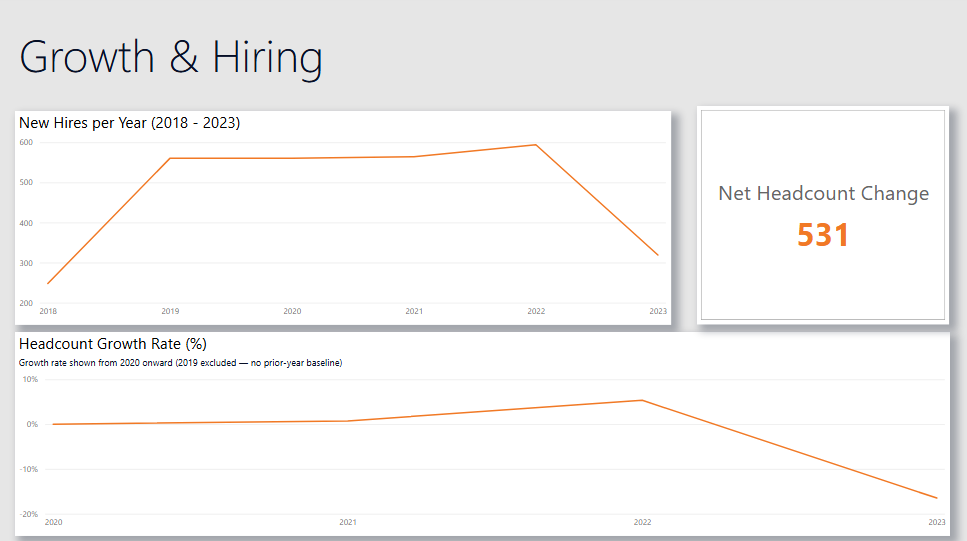

This screenshot's page, from the dashboard's own definition file:
{"tool":"powerbi","page":{"name":"Growth & Hiring","canvas":[1280,720],"ordinal":2},"visuals":[{"type":"lineChart","title":"New Hires per Year (2018 - 2023)","fields":{"Category":["Table6.YEAR"],"Y":["Table1.New_Hireyear"]},"box":[30.3,150.1,858.6,280],"z":0},{"type":"lineChart","title":"Headcount Growth Rate (%)","fields":{"Y":["Table1.Headcount_Grwth%"],"Category":["Table6.YEAR"]},"box":[30.3,440.1,1223.7,267],"z":1000},{"type":"cardVisual","fields":{"Data":["Table1.Net_Headcount_Change"]},"box":[923.6,144.3,330.5,285.7],"z":2000},{"type":"textbox","box":[30.3,31.7,858.6,112.6],"z":3000}]}

Visuals, with their boxes in screenshot pixels (x1, y1, x2, y2), scaled from the page's 1280x720 canvas onto the 967x541 screenshot:
"New Hires per Year (2018 - 2023)" lineChart: [23, 113, 672, 323]
"Headcount Growth Rate (%)" lineChart: [23, 331, 947, 531]
cardVisual - Table1.Net_Headcount_Change: [698, 108, 947, 323]
textbox: [23, 24, 672, 108]
